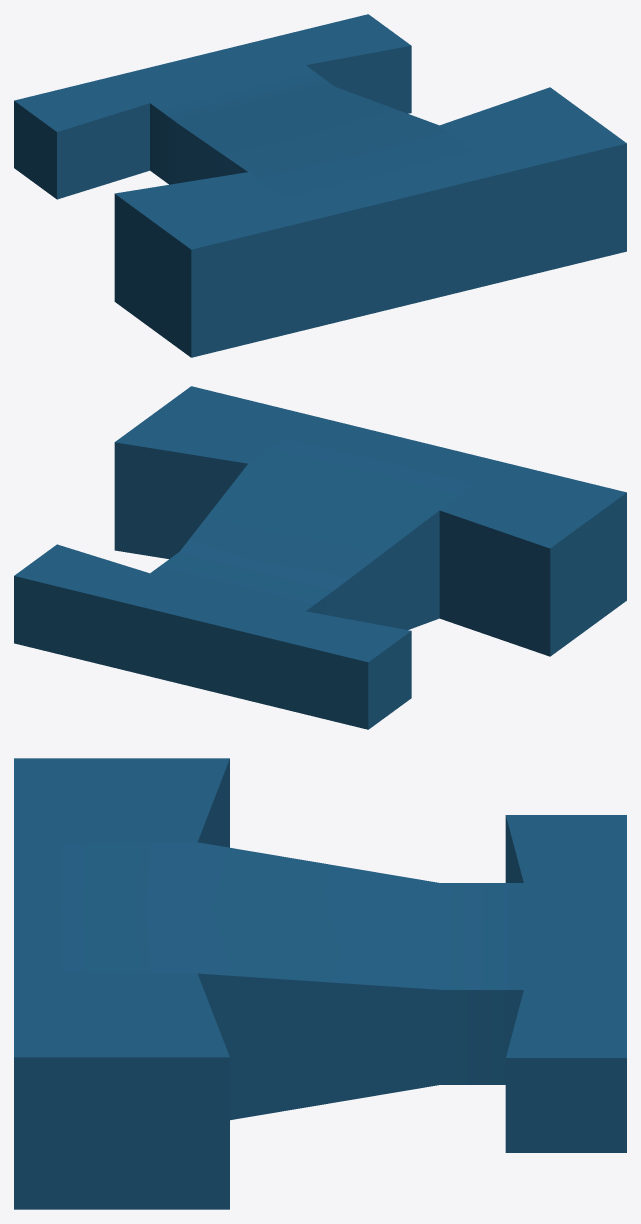
File: SM_HammerTower_lever.fbx
3 renders of one model, top to bottom at view 1: azimuth 30°, elevation 25°; view 2: azimuth 150°, elevation 25°; view 3: azimuth 270°, elevation 25°, orthographic. The views are drawn at different scales.
Parts seen in each view (by area): view 1: Lever; view 2: Lever; view 3: Lever.
Boxes of the visible parts, bbox=[...] form: Lever: bbox=[14, 14, 626, 357]; Lever: bbox=[14, 386, 626, 729]; Lever: bbox=[14, 758, 626, 1209].
Bounding box in the file's own units: 60.69 × 14.4 × 52.59.
